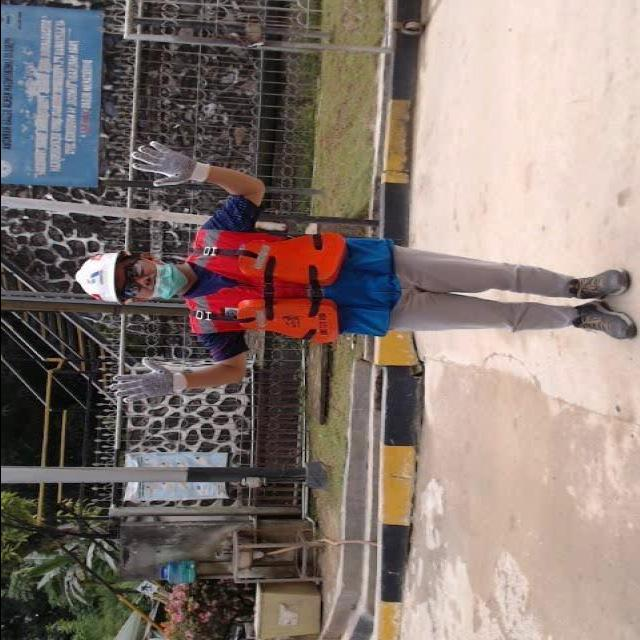helmet: (70, 241, 128, 314)
jacket: (180, 212, 350, 354)
